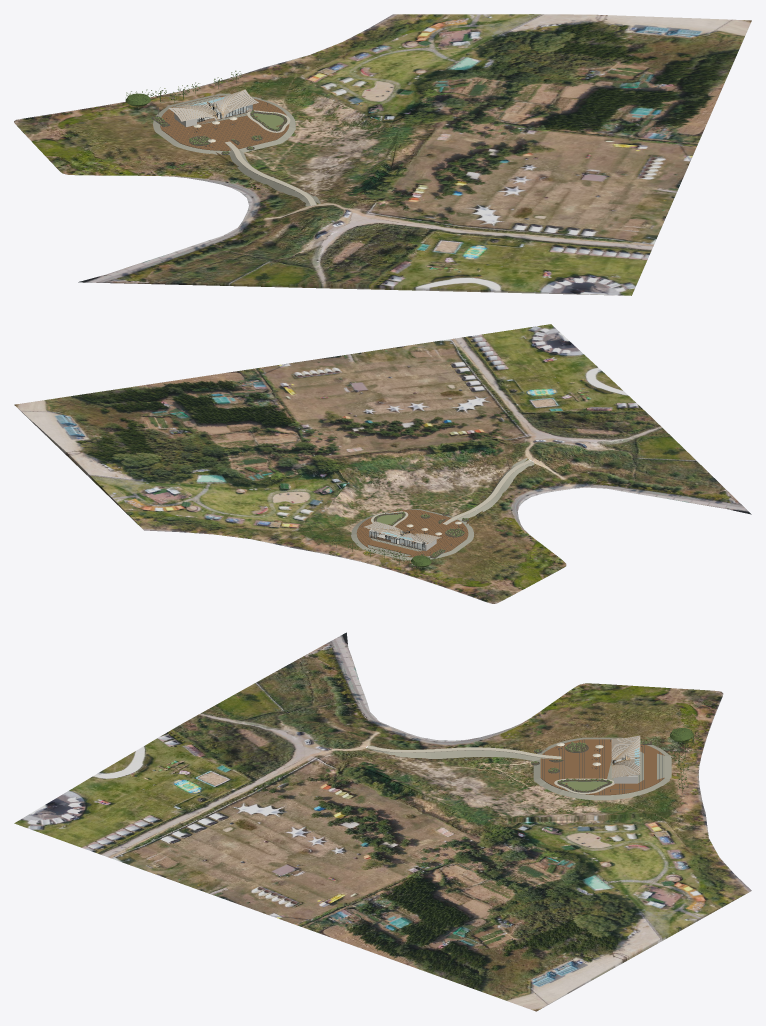
Rendered from option-04.glb.
The picture shows the model from 3 angles, top to bottom: view 1: azimuth 30°, elevation 25°; view 2: azimuth 150°, elevation 25°; view 3: azimuth 270°, elevation 25°; orthographic projection. The views are drawn at different scales.
Visible parts, largest first — view 1: option-04__ENV_P01_ground_appearance.002, option-04__Timber, option-04__Gravel, option-04__Inferred warm grey roof.001, option-04__Limestone, option-04__Inferred warm timber ribs.001; view 2: option-04__ENV_P01_ground_appearance.002, option-04__Timber, option-04__Gravel, option-04__Limestone, option-04__Inferred warm grey roof.001; view 3: option-04__ENV_P01_ground_appearance.002, option-04__Timber, option-04__Gravel, option-04__Inferred warm grey roof.001, option-04__Limestone, option-04__Inferred warm timber ribs.001.
Part boxes in pixels (<box>): option-04__ENV_P01_ground_appearance.002: <box>14,14,751,295</box>; option-04__Timber: <box>160,95,289,150</box>; option-04__Gravel: <box>153,93,320,206</box>; option-04__Inferred warm grey roof.001: <box>168,89,258,121</box>; option-04__Limestone: <box>225,110,316,205</box>; option-04__Inferred warm timber ribs.001: <box>168,89,258,120</box>; option-04__ENV_P01_ground_appearance.002: <box>14,324,751,603</box>; option-04__Timber: <box>356,509,468,557</box>; option-04__Gravel: <box>351,458,534,560</box>; option-04__Limestone: <box>371,460,532,526</box>; option-04__Inferred warm grey roof.001: <box>364,521,441,543</box>; option-04__ENV_P01_ground_appearance.002: <box>14,632,751,1011</box>; option-04__Timber: <box>540,739,664,795</box>; option-04__Gravel: <box>365,737,671,800</box>; option-04__Inferred warm grey roof.001: <box>611,735,640,777</box>; option-04__Limestone: <box>367,745,614,794</box>; option-04__Inferred warm timber ribs.001: <box>611,735,640,778</box>.
Size of the model in its own units: 355 by 6.58 by 286.
42 materials, 14 textured.
